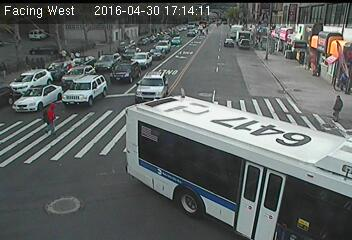neg: (55, 117, 85, 157), (250, 164, 274, 197), (88, 105, 110, 134), (158, 95, 176, 120), (124, 80, 140, 102), (43, 24, 59, 46), (1, 29, 16, 51), (318, 33, 333, 53), (256, 45, 270, 63), (238, 32, 250, 48), (108, 29, 120, 44), (283, 5, 294, 20), (221, 34, 232, 49), (181, 28, 192, 43), (308, 4, 317, 17)
pos: (37, 103, 62, 137), (326, 93, 348, 122), (338, 68, 351, 92), (20, 54, 34, 73), (37, 56, 50, 73), (58, 48, 69, 63)
